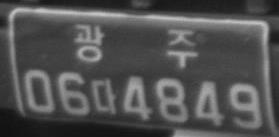0: (23, 67, 56, 115)
4: (194, 79, 225, 127), (122, 75, 153, 120)
6: (56, 71, 90, 117)
8: (155, 76, 189, 123)
9: (229, 82, 263, 130)
광주_D: (73, 22, 199, 69)
다: (91, 77, 118, 116)
